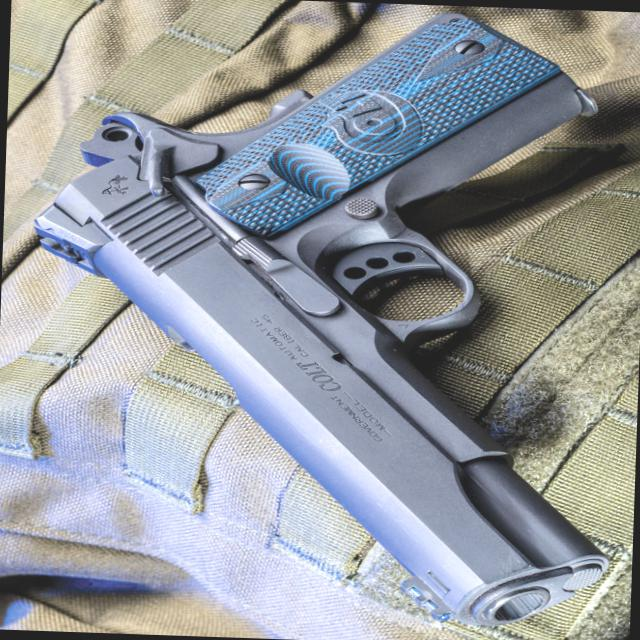handgun: (27, 5, 636, 628)
